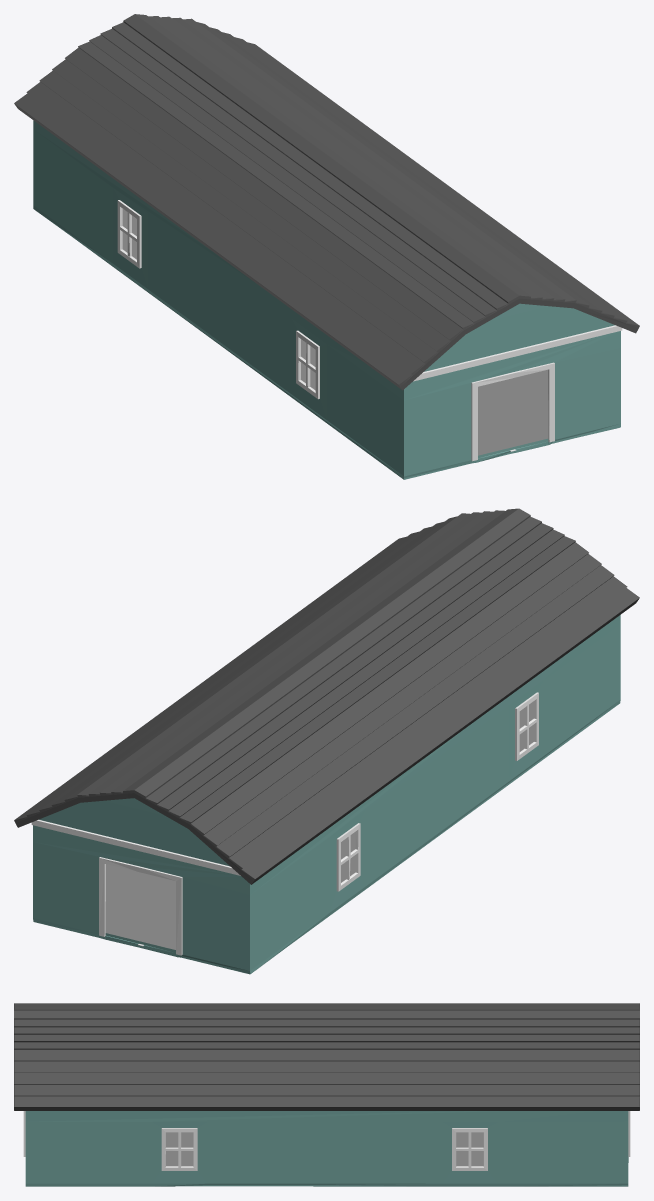
The model's file is 060 Warehouse_4.FBX.
The picture shows the model from 3 angles, top to bottom: view 1: azimuth 30°, elevation 25°; view 2: azimuth 150°, elevation 25°; view 3: azimuth 270°, elevation 25°; orthographic projection. The views are drawn at different scales.
Parts seen in each view (by area): view 1: Box179; view 2: Box179; view 3: Box179.
Part boxes in pixels (box(x1,y1,x2,y2)): Box179: box(14, 14, 639, 479); Box179: box(14, 508, 639, 974); Box179: box(14, 1003, 639, 1186).
Bounding box in the file's own units: 557 × 361 × 1539.
